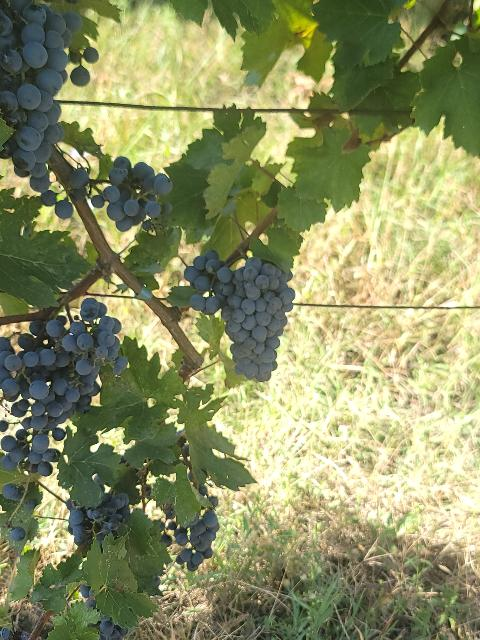grapes: (0, 0, 82, 192), (184, 250, 295, 381), (0, 319, 80, 476), (45, 298, 121, 375), (102, 156, 172, 231)
